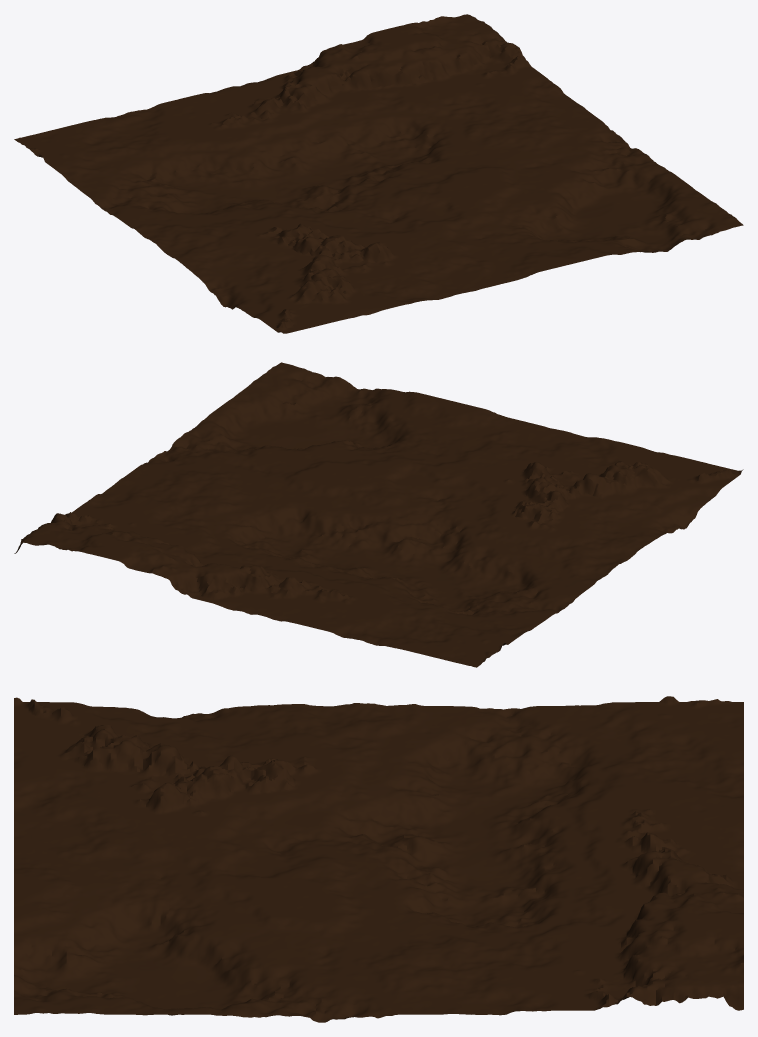
File: 2x2.3_Squares_200m_007.glb
The picture shows the model from 3 angles, top to bottom: view 1: azimuth 30°, elevation 25°; view 2: azimuth 150°, elevation 25°; view 3: azimuth 270°, elevation 25°; orthographic projection. The views are drawn at different scales.
Parts seen in each view (by area): view 1: Cube; view 2: Cube; view 3: Cube.
Boxes of the visible parts, <box> form: Cube: <box>14,14,743,333</box>; Cube: <box>14,362,743,667</box>; Cube: <box>14,696,743,1022</box>.
Size of the model in its own units: 500 by 38.26 by 500.
